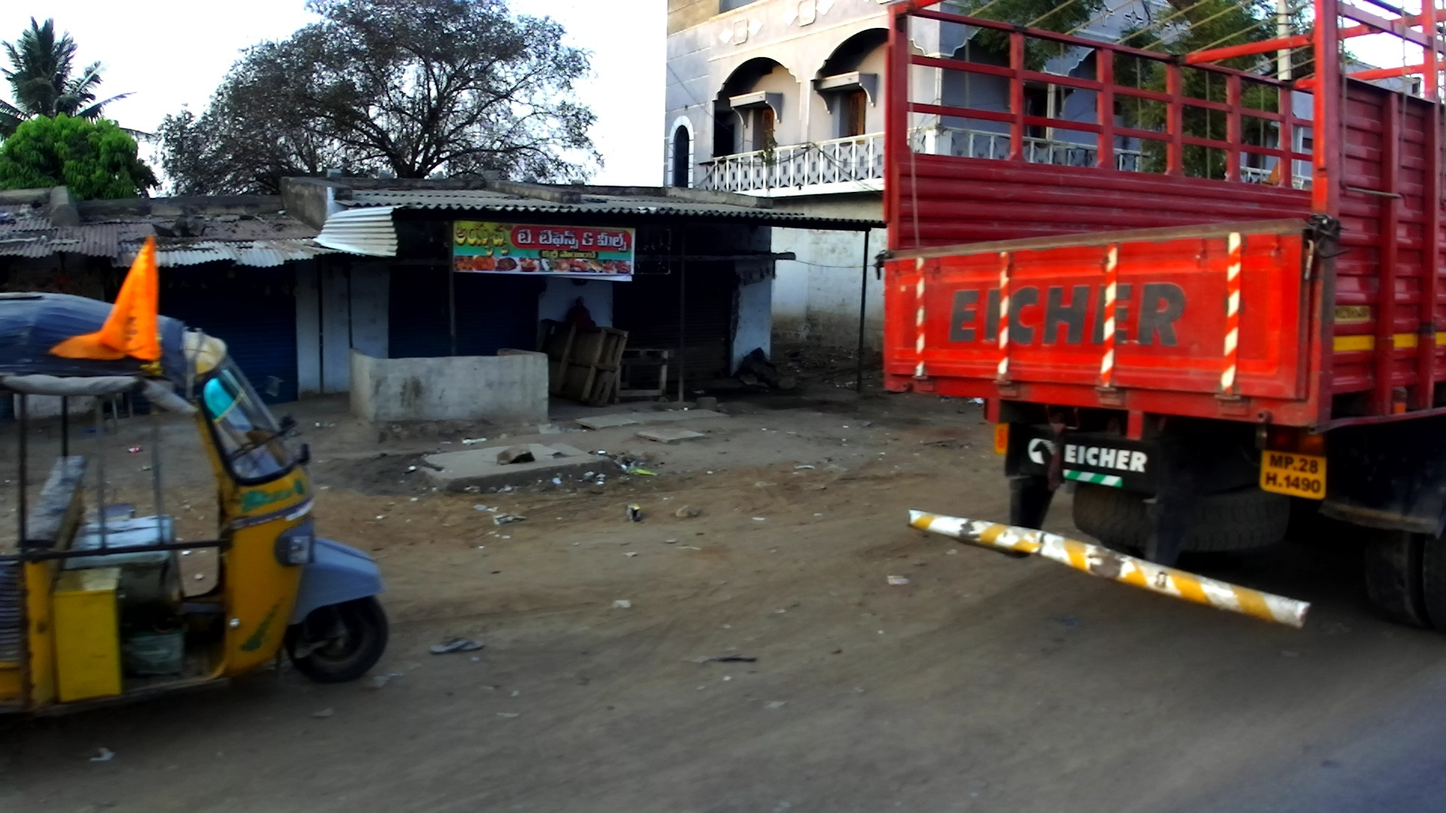autorickshaw: (1, 234, 390, 716)
truck: (873, 1, 1446, 632)
